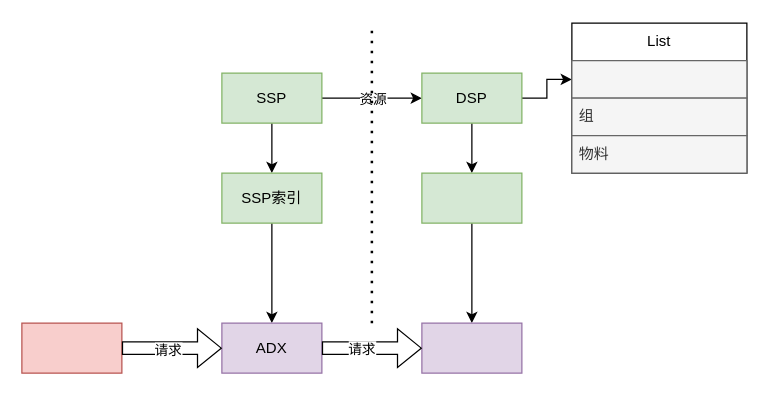
This 769x395 diagram has some shape labels left out. Here are the shapes that lost their labels. From the top down, the centre of each, then its label:
At [659,78]: "计划".
At [471,197]: "DSP索引".
At [71,347]: "客户端".
At [471,347]: "ADS".
